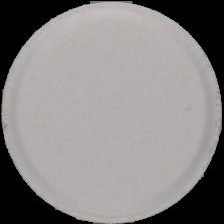67296-0676: (0, 0, 224, 224)
